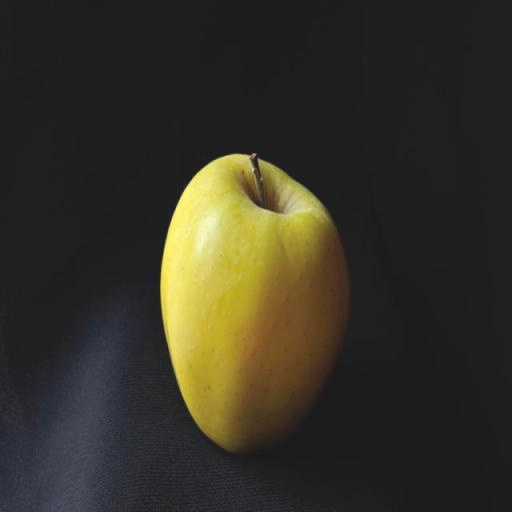fruit: (161, 155, 349, 452)
